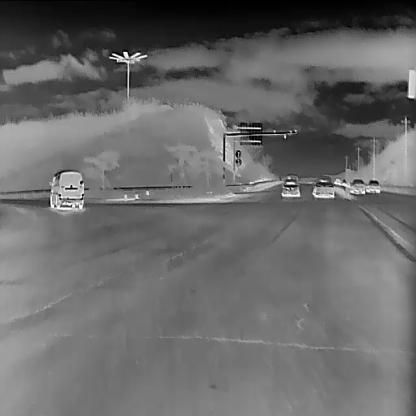car: (49, 169, 83, 211), (312, 175, 334, 198), (281, 174, 298, 197), (349, 178, 365, 194), (365, 179, 380, 193)
sign: (234, 159, 244, 171), (234, 148, 242, 158)
